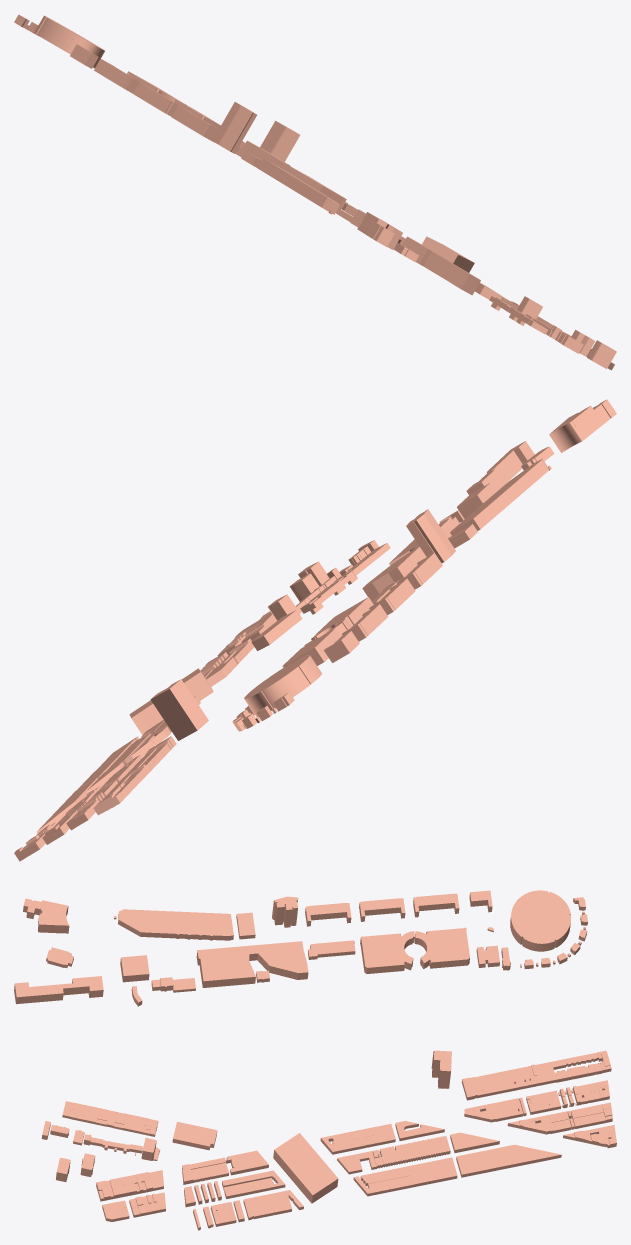
3 views of the same model, one above another, from view 1: azimuth 30°, elevation 25°; view 2: azimuth 150°, elevation 25°; view 3: azimuth 270°, elevation 25° (orthographic). The views are drawn at different scales.
Size of the model in its own units: 513 by 394 by 968.
